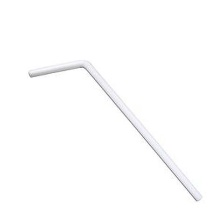drinking_straw: (24, 54, 206, 205)
